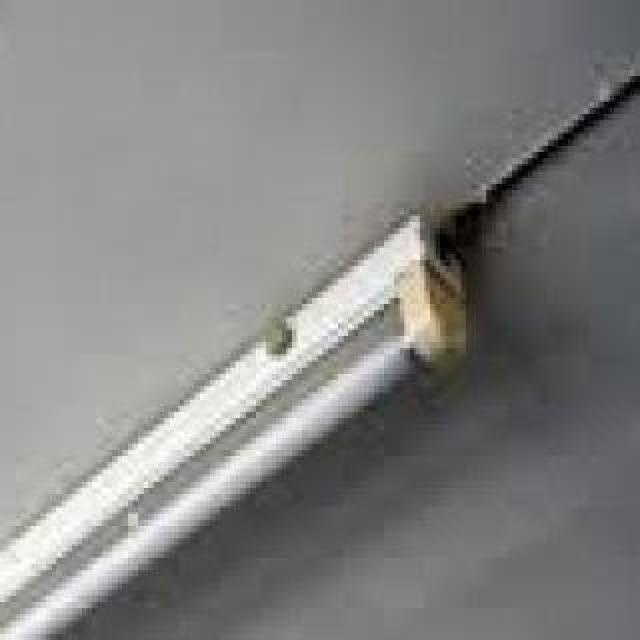fluorescent tube: (0, 180, 492, 640)
